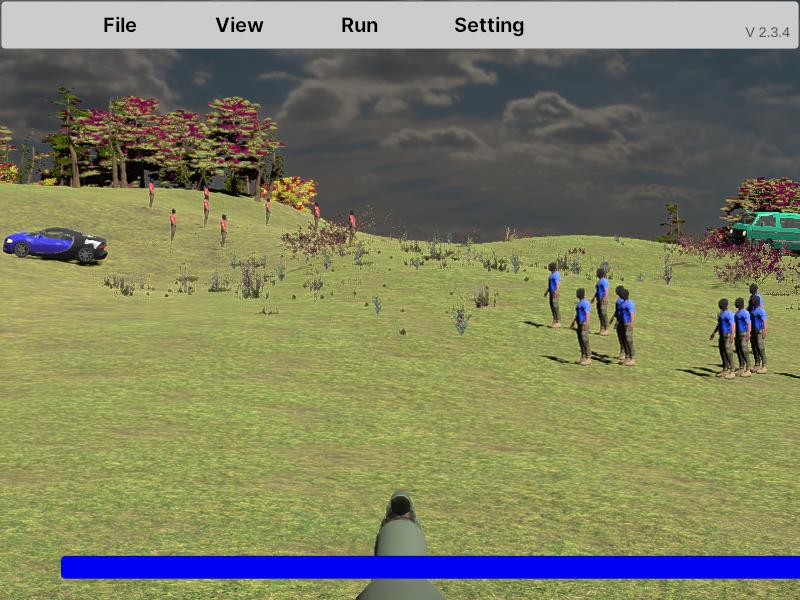Human: (710, 297, 736, 379), (729, 296, 753, 377), (614, 287, 636, 366), (747, 298, 768, 375), (571, 288, 591, 365), (592, 266, 610, 336), (544, 262, 561, 329)
car: (2, 227, 108, 265), (732, 211, 800, 259)
